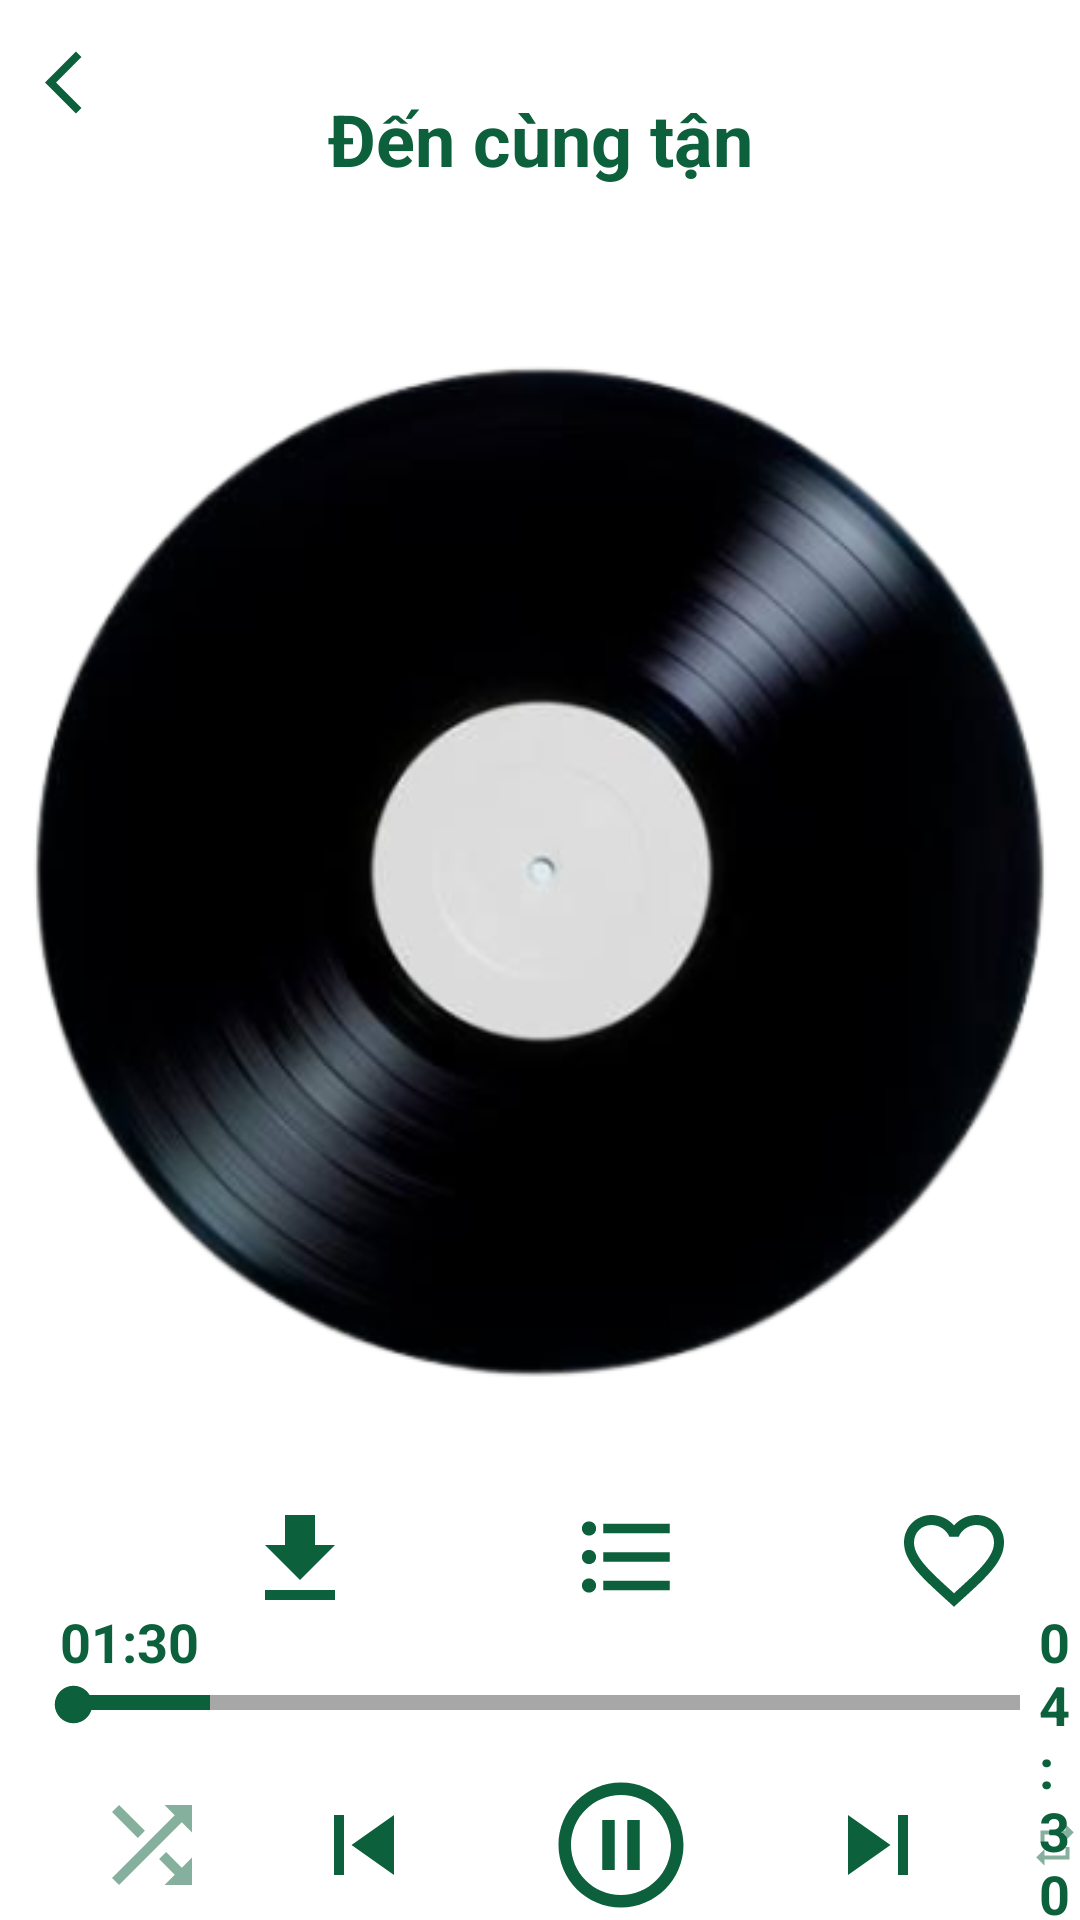

Point at icon controls on the screen. Image size 1080×1920, points as point (x, y).
arrow back: point (63, 82)
download: point (300, 1557)
favorite border: point (954, 1561)
format list bulleted: point (626, 1557)
pause circle: point (621, 1845)
shuffle: point (152, 1845)
skip next: point (878, 1845)
skip previous: point (364, 1845)
